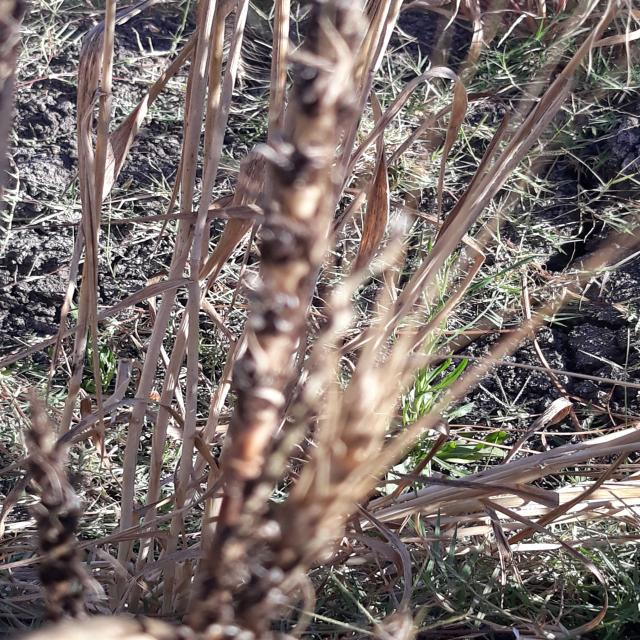loose_charred: (166, 0, 437, 640), (0, 389, 147, 640)
